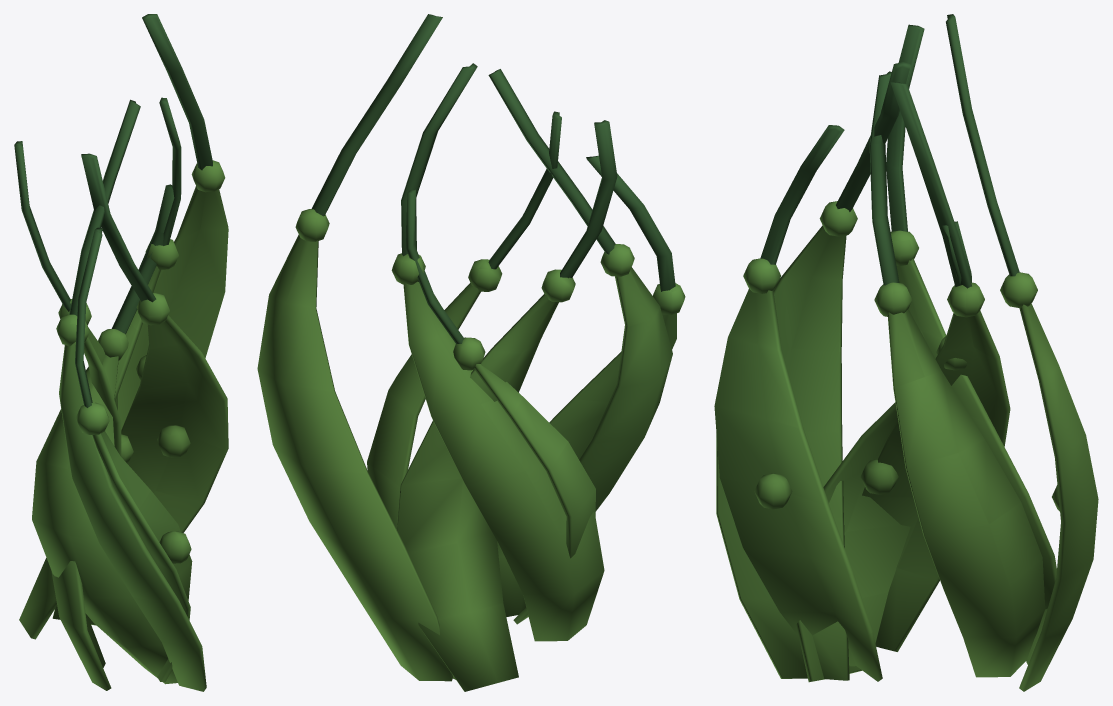
Rendered from shore_gc_kelp_b.glb.
3 views of the same model, side by side, from view 1: azimuth 30°, elevation 25°; view 2: azimuth 150°, elevation 25°; view 3: azimuth 270°, elevation 25° (orthographic). The views are drawn at different scales.
Visible parts, largest first — view 1: shore_gc_kelp_b; view 2: shore_gc_kelp_b; view 3: shore_gc_kelp_b.
Part boxes in pixels (box(x1,y1,x2,y2)): shore_gc_kelp_b: box(14, 14, 228, 691); shore_gc_kelp_b: box(257, 14, 685, 691); shore_gc_kelp_b: box(714, 14, 1098, 691).
Size of the model in its own units: 2.25 by 4.72 by 2.41.
